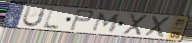L: (42, 7, 61, 30)
M: (90, 11, 123, 33)
P: (68, 8, 95, 32)
U: (21, 5, 49, 29)
X: (144, 14, 173, 39), (122, 13, 149, 36)
